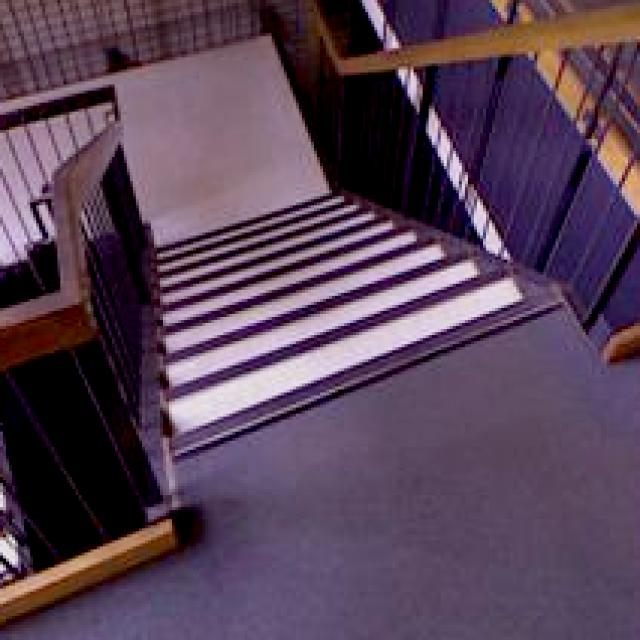downstair: (146, 282, 556, 463)
